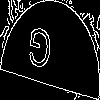G: (25, 25, 54, 79)
